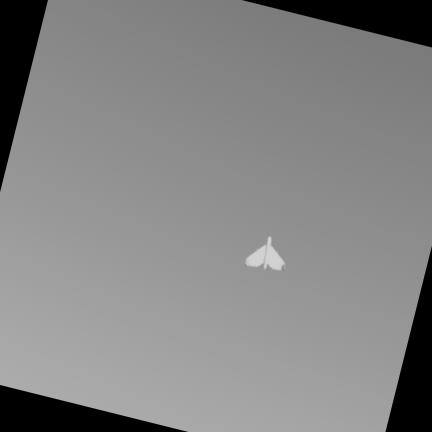Shahed: (245, 236, 285, 270)
